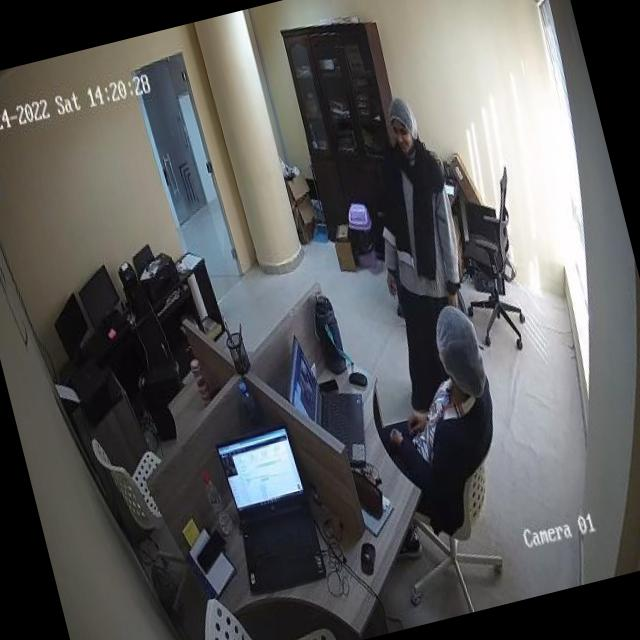hairnet: (431, 304, 486, 392), (384, 99, 420, 144)
